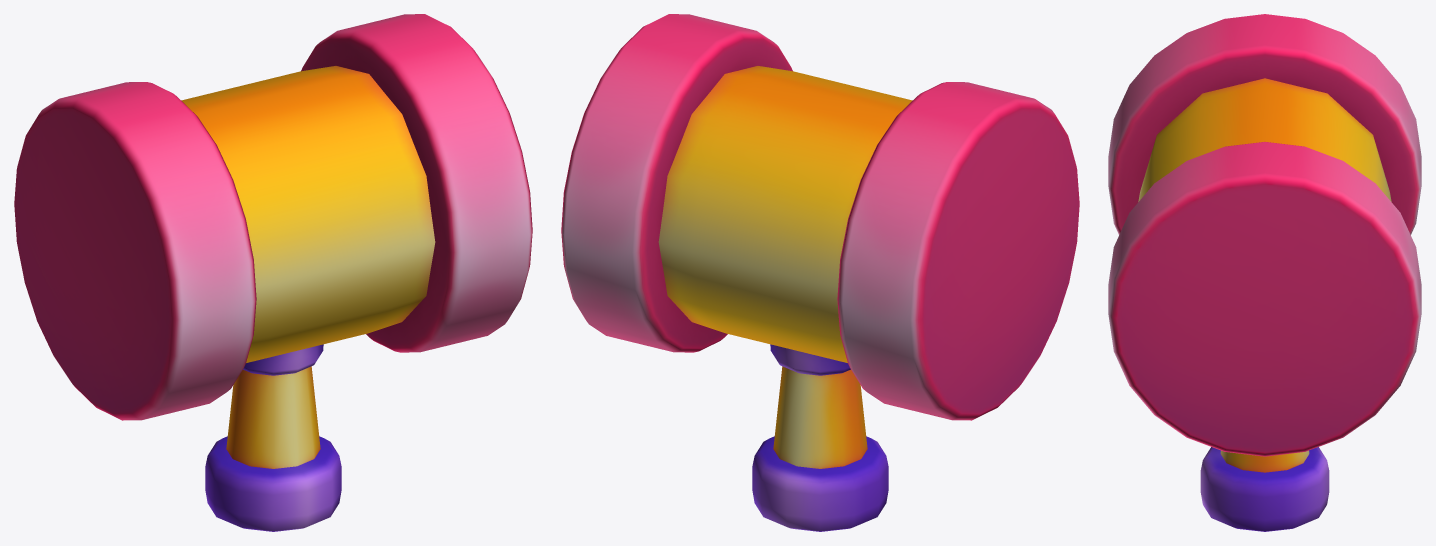
The model's file is Hammer.fbx.
3 renders of one model, left to right at view 1: azimuth 30°, elevation 25°; view 2: azimuth 150°, elevation 25°; view 3: azimuth 270°, elevation 25°, orthographic. The views are drawn at different scales.
Visible parts, largest first — view 1: Hammer; view 2: Hammer; view 3: Hammer.
Part boxes in pixels (x1,y1,x2,y2): Hammer: [14, 14, 532, 531]; Hammer: [561, 14, 1079, 531]; Hammer: [1108, 14, 1421, 531].
Size of the model in its own units: 91.15 by 106 by 72.24.
